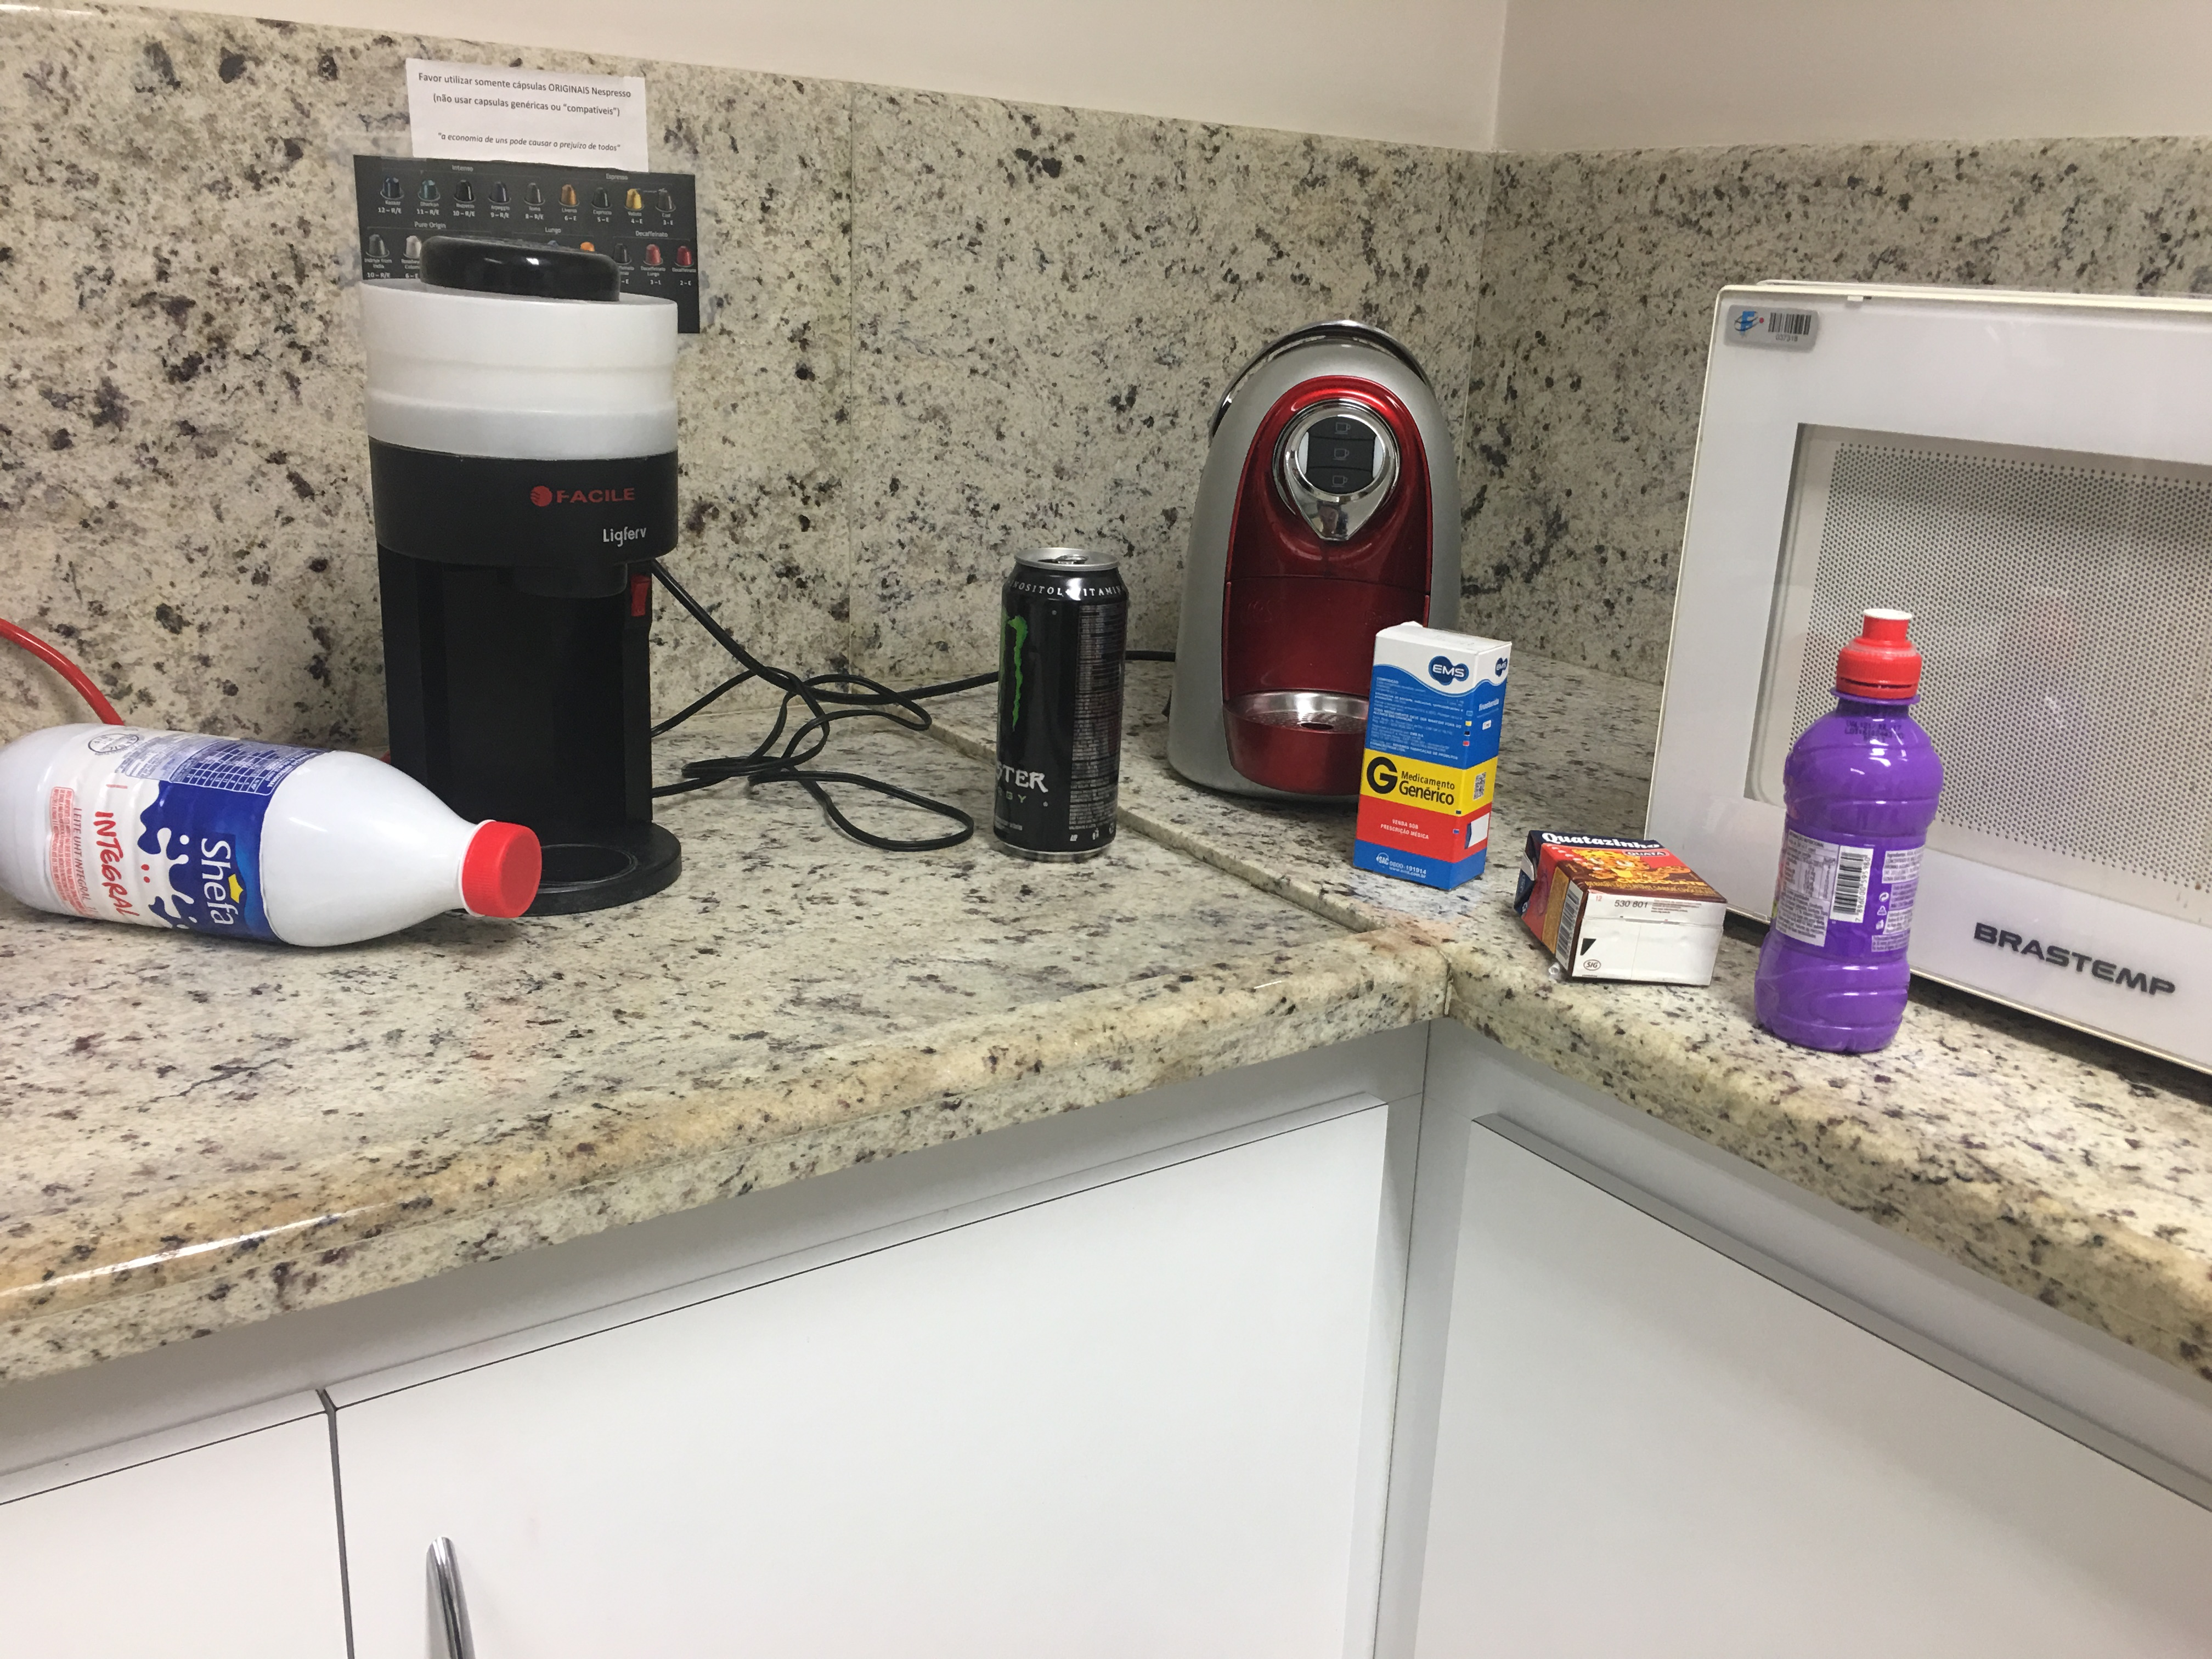chocolate_milk: (1521, 826, 1733, 997)
medicine: (1336, 617, 1524, 890)
milk_bottle: (0, 714, 552, 951)
monster: (1001, 542, 1123, 868)
purple_juice: (1768, 603, 1944, 1054)
